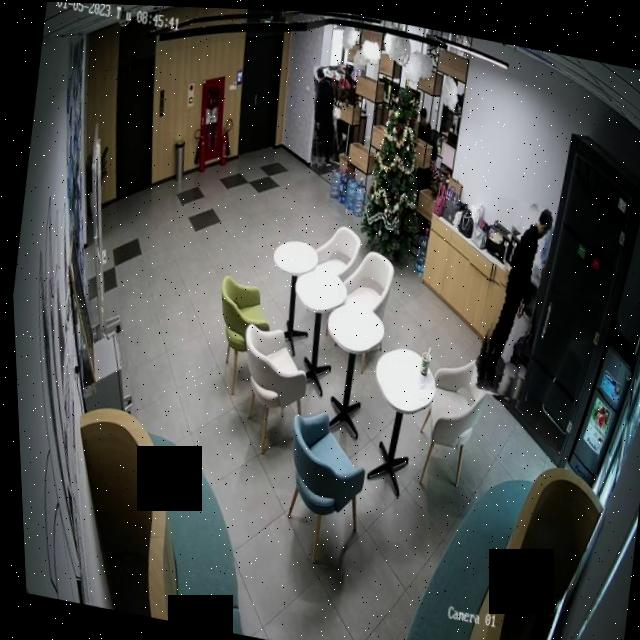person: (465, 191, 554, 398), (301, 62, 351, 170)
